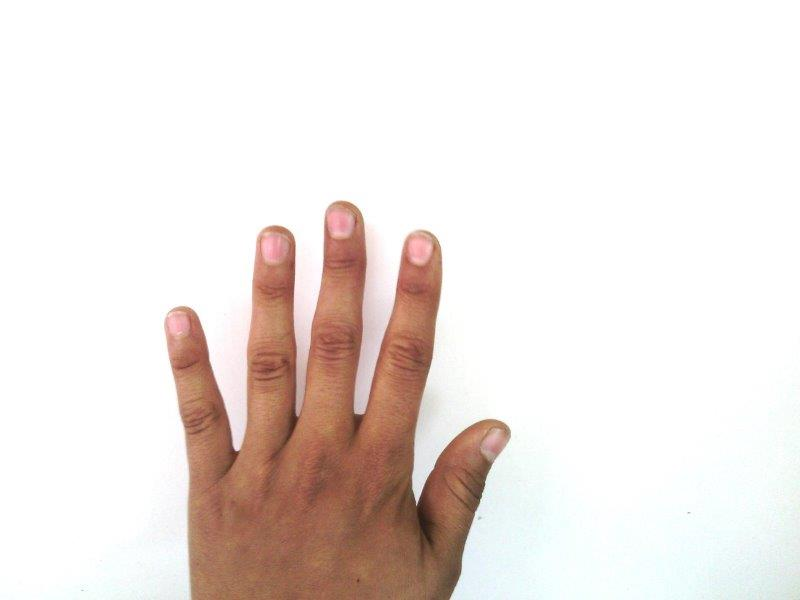hand: (166, 200, 512, 600)
